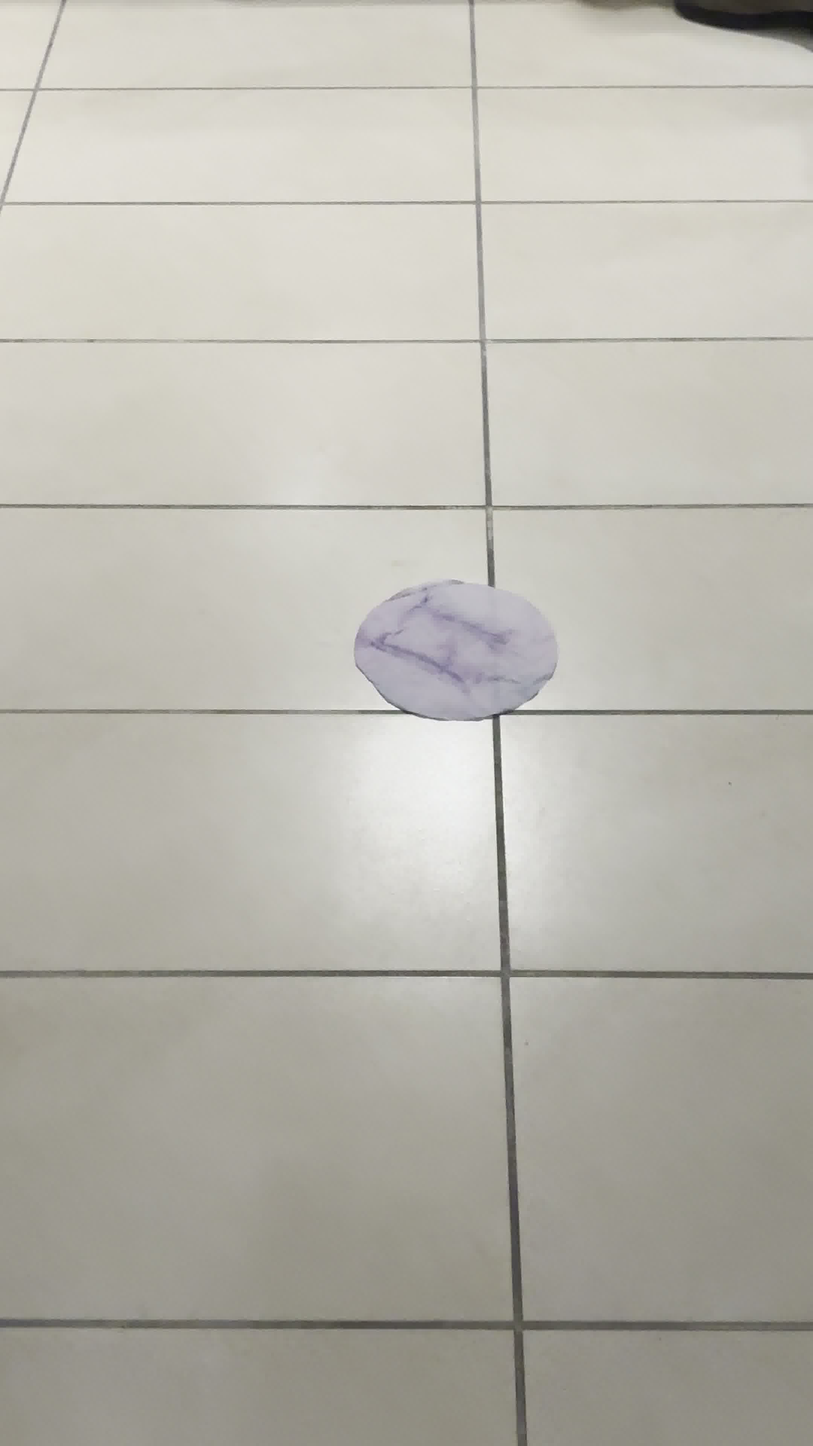Target: (352, 575, 556, 720)
